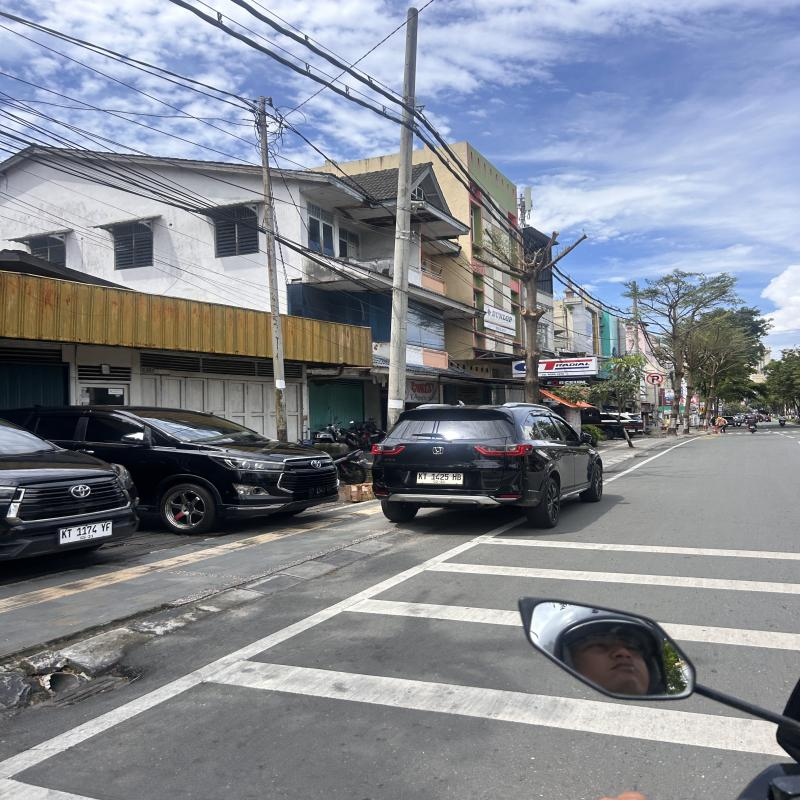license plate on a car: (60, 521, 112, 544), (417, 472, 463, 484), (309, 485, 332, 497)
